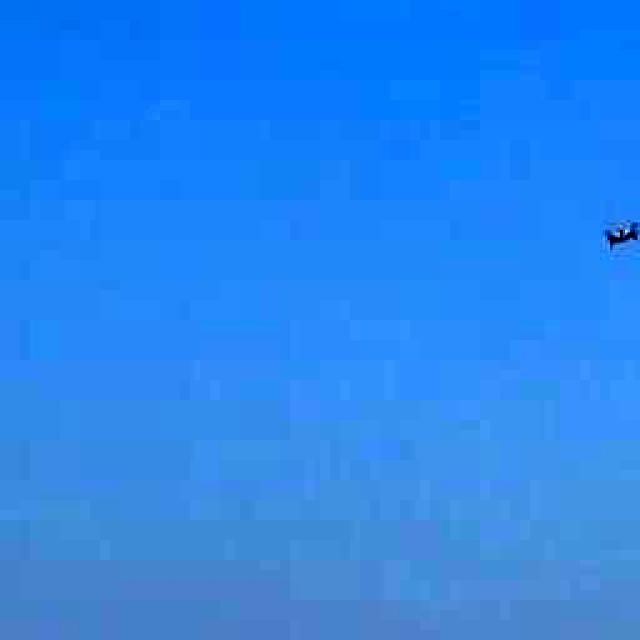bird: (576, 192, 640, 265)
